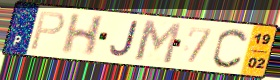7: (184, 26, 213, 64)
C: (211, 27, 251, 70)
H: (59, 13, 107, 57)
J: (108, 20, 140, 58)
M: (133, 18, 183, 66)
P: (28, 10, 67, 52)
